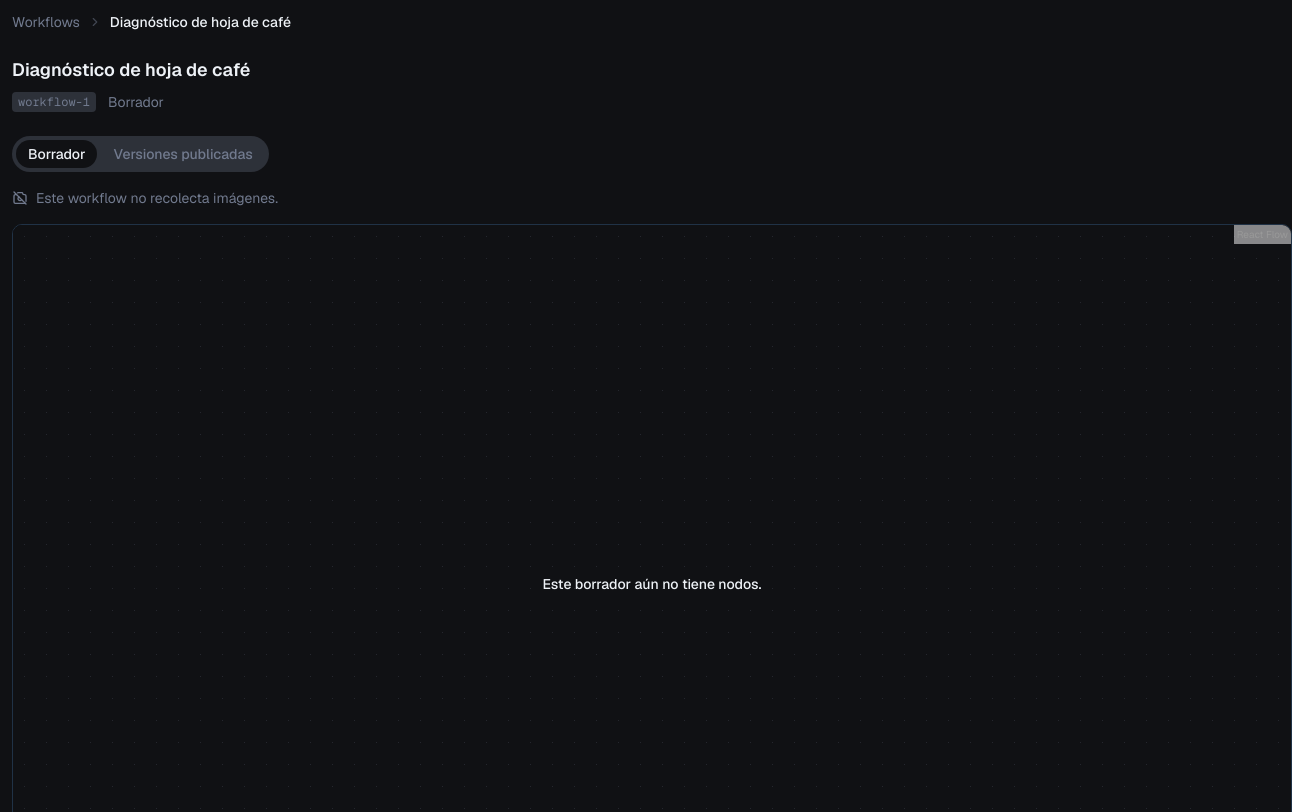
Test: ApplicationDetailPanel › US-026: Ver el detalle de un workflow › distinguishes the draft from the published versions with two tabs
Expected: the text "Este borrador aún no tiene nodos." is shown, [542,575,762,593]
Expected: the text "Aún no hay versiones publicadas." is not shown
Step 1. Click the tab "Versiones publicadas" → {"x": 183, "y": 154}, box [102,140,265,168]
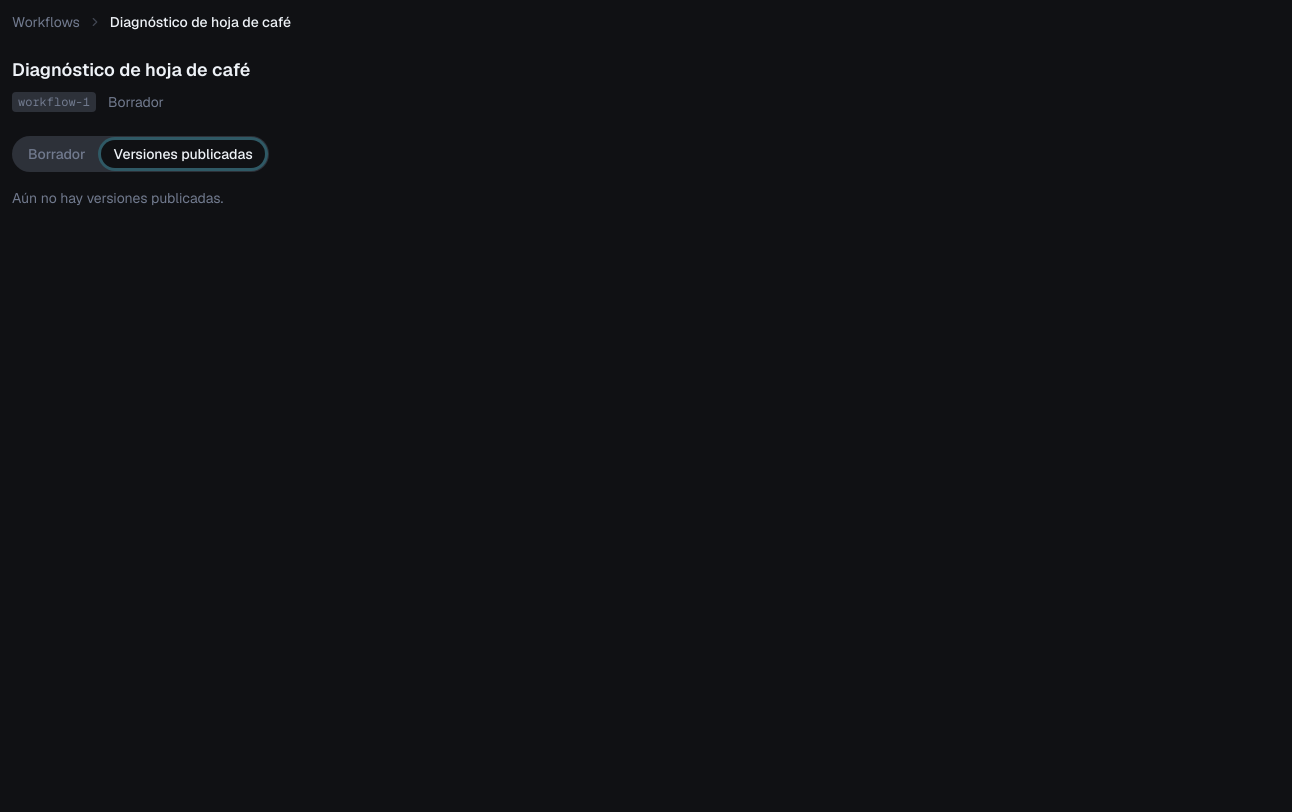
Now the text "Aún no hay versiones publicadas." is shown, box [12,189,223,207]
Now the text "Este borrador aún no tiene nodos." is gone
